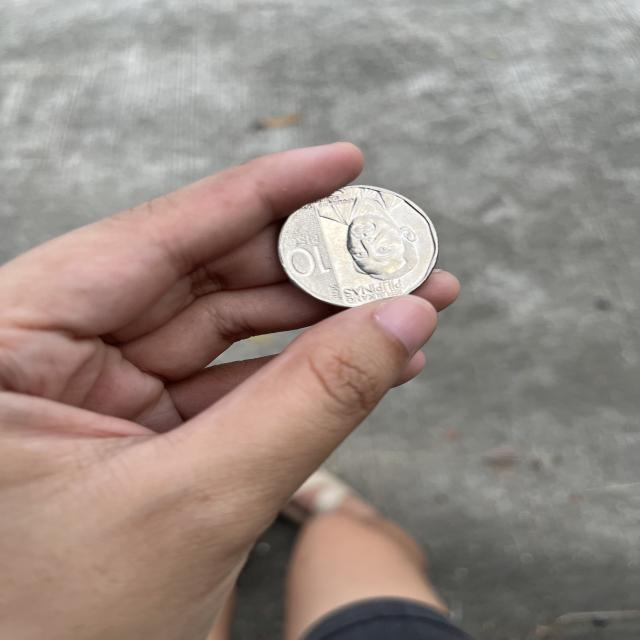10_New_Front: (280, 234, 332, 282)
